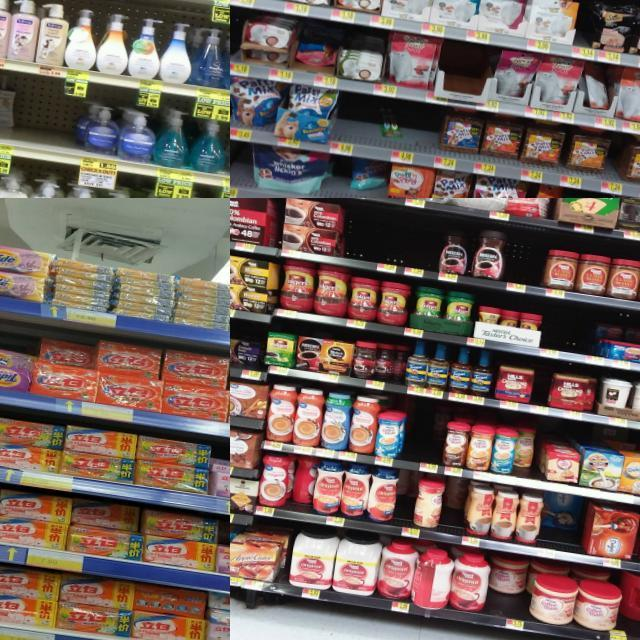empty: (11, 80, 82, 164), (338, 204, 409, 274), (539, 301, 596, 362), (334, 92, 380, 159), (398, 102, 444, 168), (502, 230, 547, 294), (402, 214, 443, 278), (403, 414, 441, 472), (574, 3, 596, 60), (230, 140, 250, 198), (326, 157, 351, 198)
